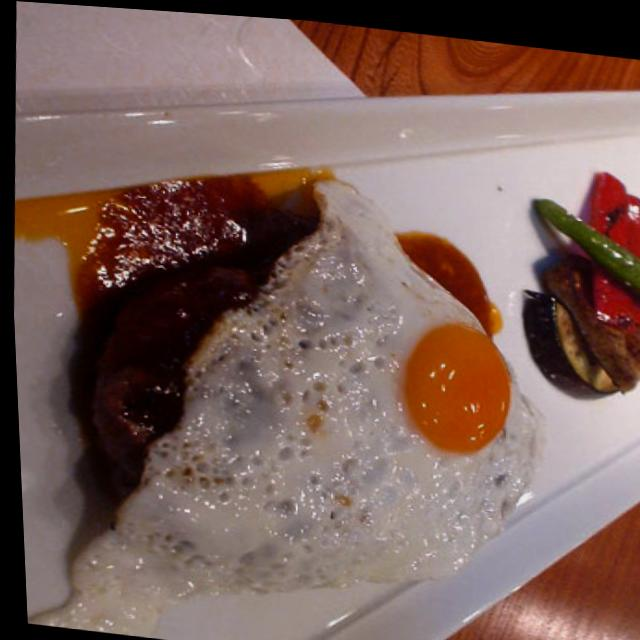鸡蛋料理: (71, 183, 575, 639)
